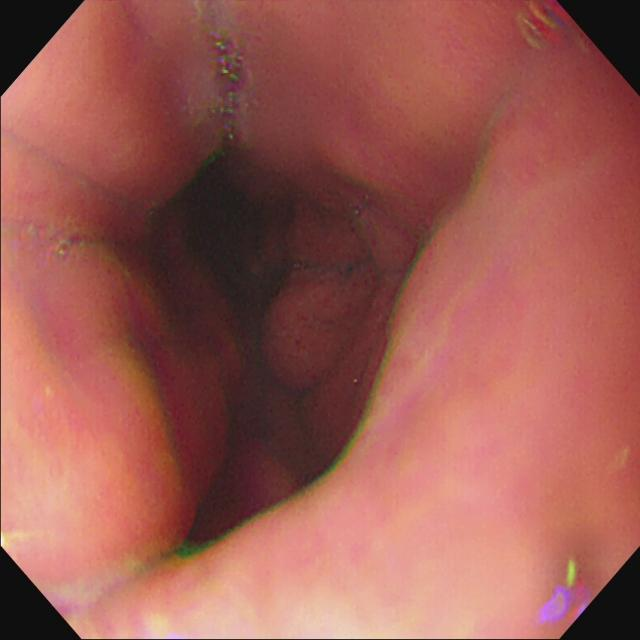A: (254, 264, 374, 395)
E: (186, 178, 279, 276)
T: (198, 37, 257, 155)
U: (167, 526, 224, 568), (541, 561, 578, 620)
